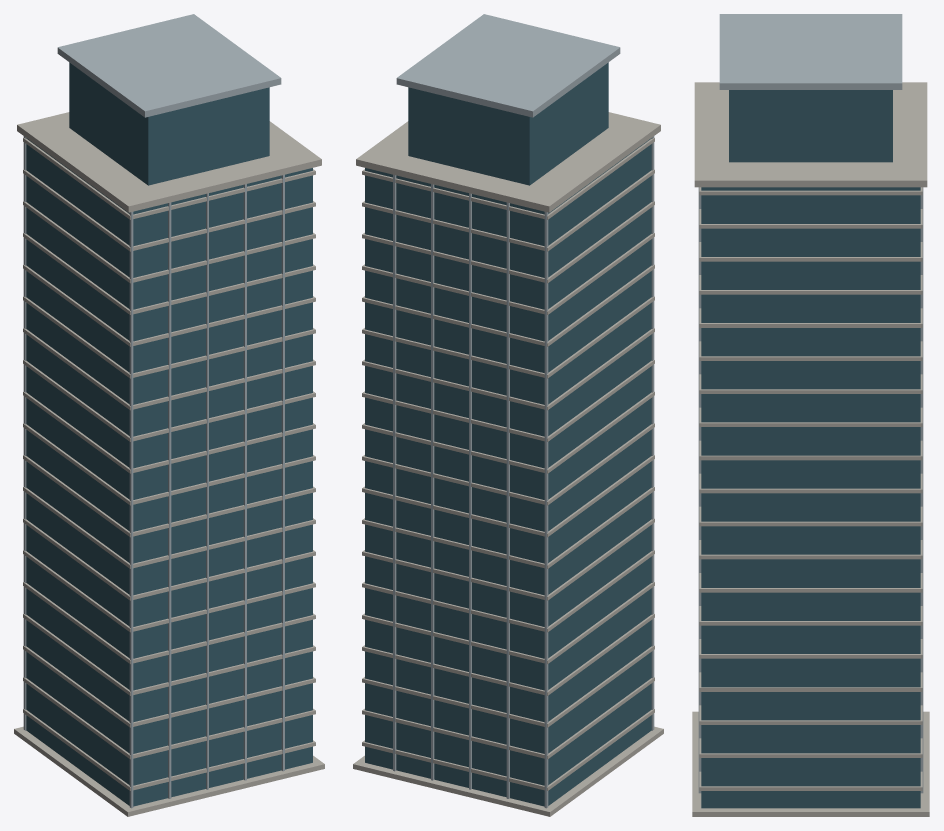
The model's file is skyline-tower-ZleHe6-o.glb.
3 views of the same model, side by side, from view 1: azimuth 30°, elevation 25°; view 2: azimuth 150°, elevation 25°; view 3: azimuth 270°, elevation 25° (orthographic). The views are drawn at different scales.
Parts seen in each view (by area): view 1: SkylineTower_Glazing, SkylineTower_Concrete, SkylineTower_Metal; view 2: SkylineTower_Glazing, SkylineTower_Concrete, SkylineTower_Metal; view 3: SkylineTower_Glazing, SkylineTower_Concrete, SkylineTower_Metal.
Boxes of the visible parts, <box> form: SkylineTower_Glazing: <box>26,62,312,806</box>; SkylineTower_Concrete: <box>14,112,324,816</box>; SkylineTower_Metal: <box>23,14,284,808</box>; SkylineTower_Glazing: <box>365,62,651,806</box>; SkylineTower_Concrete: <box>353,112,663,816</box>; SkylineTower_Metal: <box>393,14,654,808</box>; SkylineTower_Glazing: <box>701,90,920,808</box>; SkylineTower_Concrete: <box>692,82,929,816</box>; SkylineTower_Metal: <box>698,14,923,793</box>.
Bounding box in the file's own units: 26 × 86.8 × 26.
